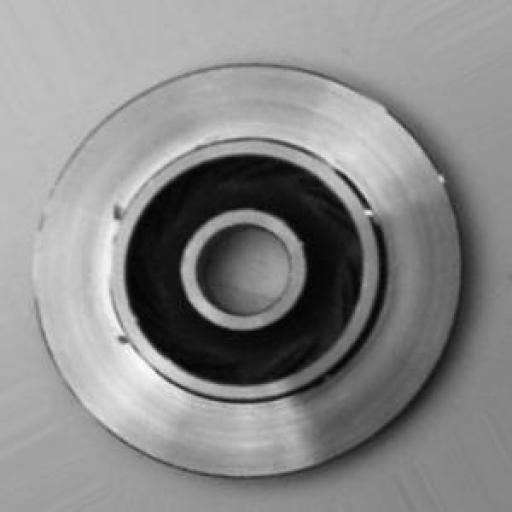defect: (92, 190, 158, 380)
